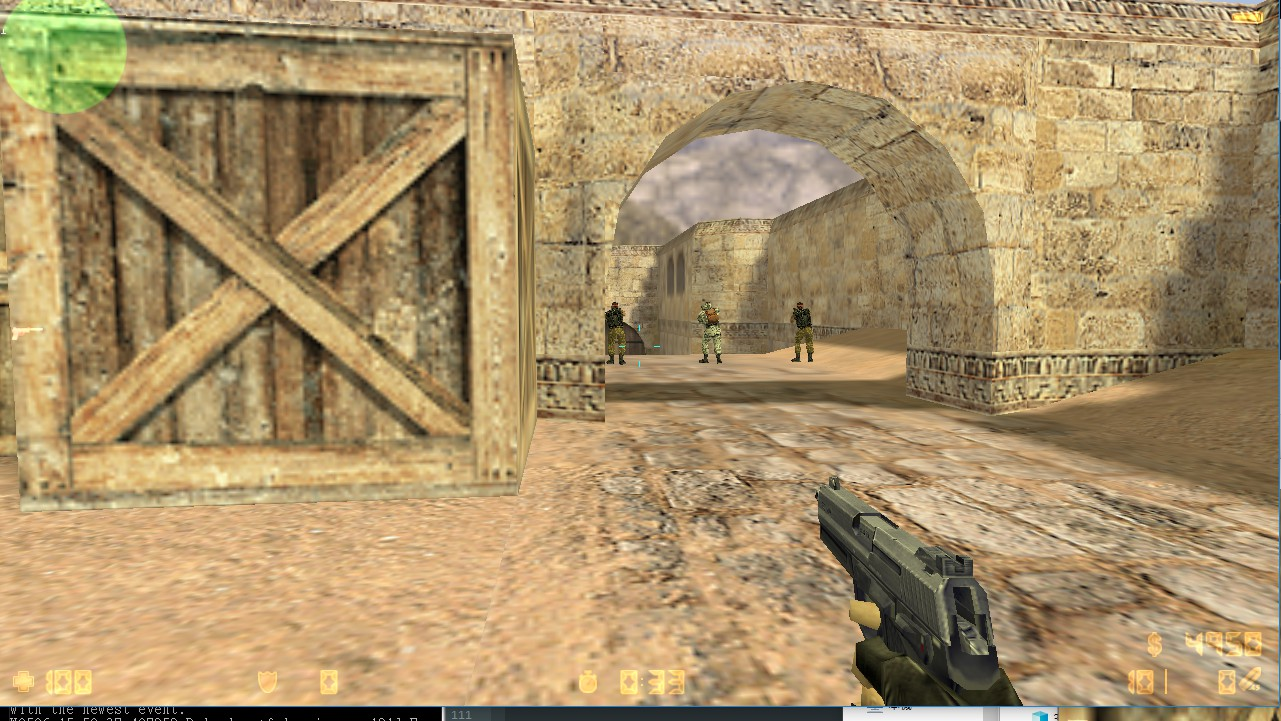person: (695, 301, 729, 373), (784, 295, 819, 363), (606, 299, 626, 365)
